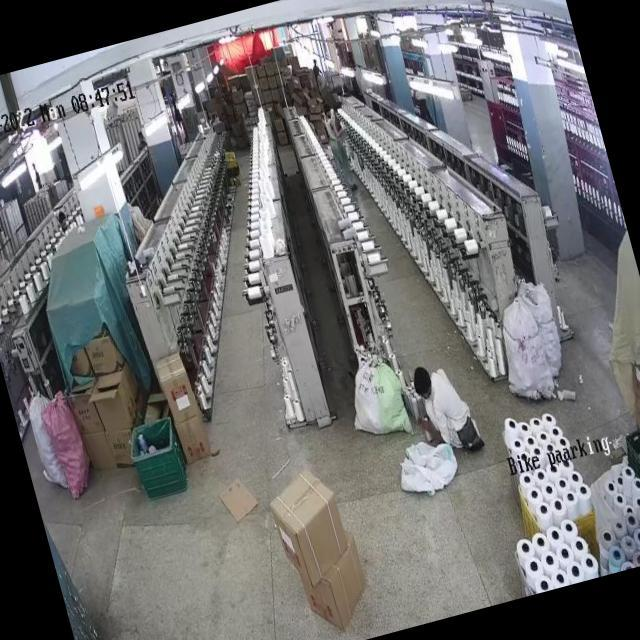person: (406, 353, 482, 457), (319, 101, 359, 208)
